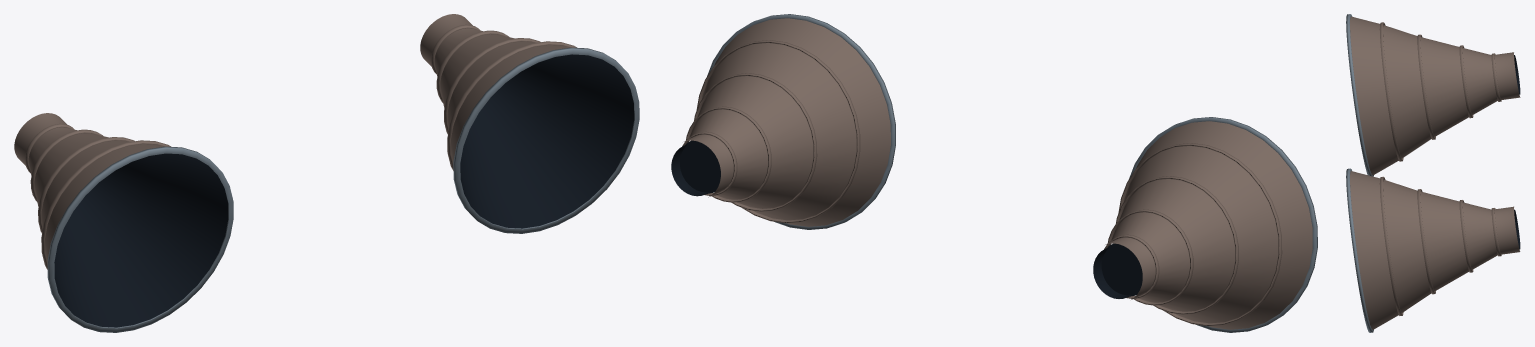
The model's file is orion_cm.rcs_02.glb.
3 renders of one model, left to right at view 1: azimuth 30°, elevation 25°; view 2: azimuth 150°, elevation 25°; view 3: azimuth 270°, elevation 25°, orthographic. The views are drawn at different scales.
Parts seen in each view (by area): view 1: orion_cm.rcs_02.nozzle_01.bell.mesh_Shadowed_interior, orion_cm.rcs_02.nozzle_02.bell.mesh_Shadowed_interior, orion_cm.rcs_02.nozzle_01.bell.mesh_Heat-stained_alloy, orion_cm.rcs_02.nozzle_02.bell.mesh_Heat-stained_alloy, orion_cm.rcs_02.nozzle_02.bell.mesh_Machined_steel, orion_cm.rcs_02.nozzle_01.bell.mesh_Machined_steel; view 2: orion_cm.rcs_02.nozzle_01.bell.mesh_Heat-stained_alloy, orion_cm.rcs_02.nozzle_02.bell.mesh_Heat-stained_alloy, orion_cm.rcs_02.nozzle_02.bell.mesh_Shadowed_interior, orion_cm.rcs_02.nozzle_01.bell.mesh_Machined_steel, orion_cm.rcs_02.nozzle_01.bell.mesh_Shadowed_interior, orion_cm.rcs_02.nozzle_02.bell.mesh_Machined_steel; view 3: orion_cm.rcs_02.nozzle_01.bell.mesh_Heat-stained_alloy, orion_cm.rcs_02.nozzle_02.bell.mesh_Heat-stained_alloy, orion_cm.rcs_02.nozzle_02.bell.mesh_Machined_steel, orion_cm.rcs_02.nozzle_01.bell.mesh_Machined_steel.
Boxes of the visible parts, left/top/right/bottom form: orion_cm.rcs_02.nozzle_01.bell.mesh_Shadowed_interior: left=54, top=153, right=228, bottom=327; orion_cm.rcs_02.nozzle_02.bell.mesh_Shadowed_interior: left=460, top=54, right=634, bottom=228; orion_cm.rcs_02.nozzle_01.bell.mesh_Heat-stained_alloy: left=14, top=113, right=170, bottom=269; orion_cm.rcs_02.nozzle_02.bell.mesh_Heat-stained_alloy: left=420, top=14, right=576, bottom=170; orion_cm.rcs_02.nozzle_02.bell.mesh_Machined_steel: left=453, top=47, right=639, bottom=233; orion_cm.rcs_02.nozzle_01.bell.mesh_Machined_steel: left=47, top=146, right=233, bottom=332; orion_cm.rcs_02.nozzle_01.bell.mesh_Heat-stained_alloy: left=1104, top=121, right=1312, bottom=329; orion_cm.rcs_02.nozzle_02.bell.mesh_Heat-stained_alloy: left=682, top=18, right=890, bottom=226; orion_cm.rcs_02.nozzle_02.bell.mesh_Shadowed_interior: left=671, top=140, right=720, bottom=196; orion_cm.rcs_02.nozzle_01.bell.mesh_Machined_steel: left=1129, top=117, right=1317, bottom=332; orion_cm.rcs_02.nozzle_01.bell.mesh_Shadowed_interior: left=1093, top=243, right=1142, bottom=298; orion_cm.rcs_02.nozzle_02.bell.mesh_Machined_steel: left=707, top=14, right=895, bottom=229; orion_cm.rcs_02.nozzle_01.bell.mesh_Heat-stained_alloy: left=1350, top=16, right=1520, bottom=175; orion_cm.rcs_02.nozzle_02.bell.mesh_Heat-stained_alloy: left=1350, top=171, right=1520, bottom=329; orion_cm.rcs_02.nozzle_02.bell.mesh_Machined_steel: left=1346, top=168, right=1373, bottom=332; orion_cm.rcs_02.nozzle_01.bell.mesh_Machined_steel: left=1346, top=14, right=1373, bottom=176.
Bounding box in the file's own units: 0.3633 × 0.1124 × 0.1195.
